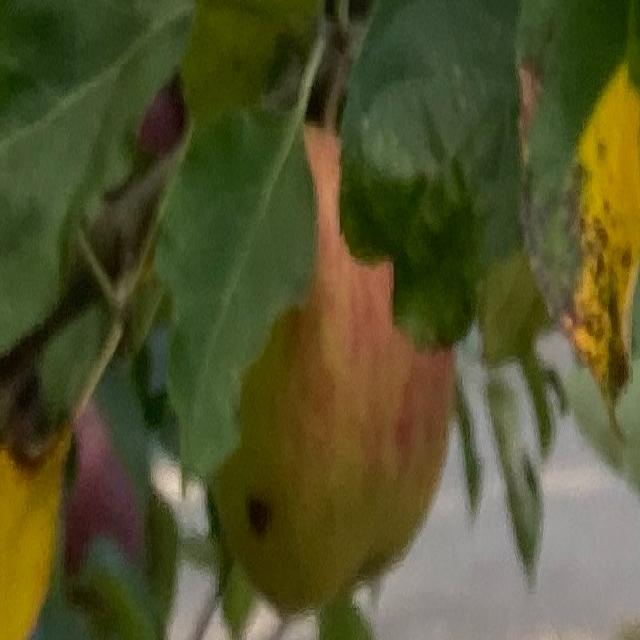Apples: (213, 124, 451, 601)
